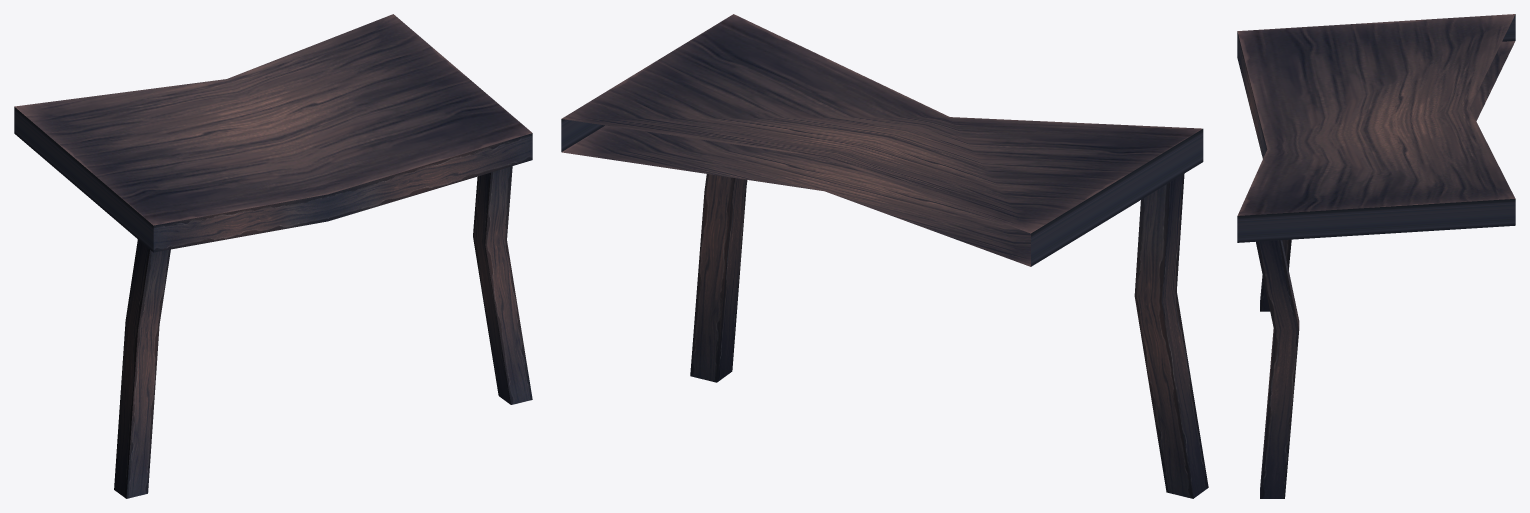
Rendered from Roof_B.fbx.
3 views of the same model, side by side, from view 1: azimuth 30°, elevation 25°; view 2: azimuth 150°, elevation 25°; view 3: azimuth 270°, elevation 25° (orthographic). The views are drawn at different scales.
Visible parts, largest first — view 1: Roof_B; view 2: Roof_B; view 3: Roof_B.
Boxes of the visible parts, x1=… form: Roof_B: x1=14, y1=14, x2=532, y2=498; Roof_B: x1=561, y1=14, x2=1208, y2=498; Roof_B: x1=1237, y1=14, x2=1515, y2=498.
Bounding box in the file's own units: 128 × 88.5 × 75.7.
Materials: 1 (1 with a texture image).
